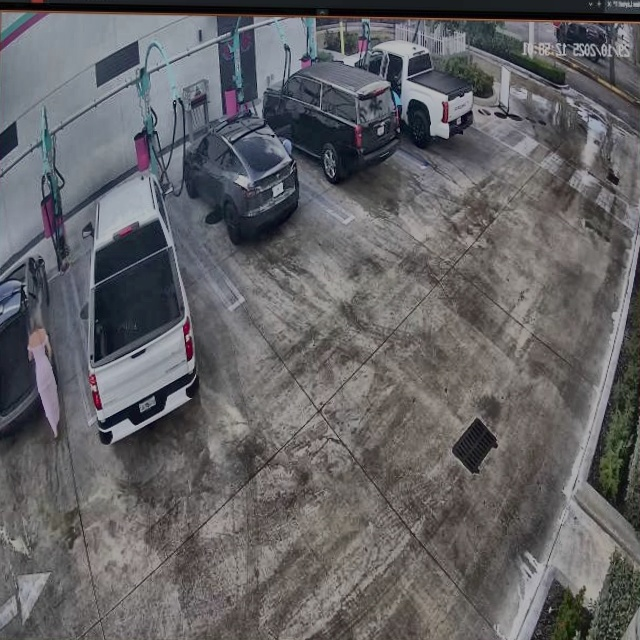Car: (76, 174, 204, 446), (263, 61, 402, 183), (180, 112, 299, 243)
